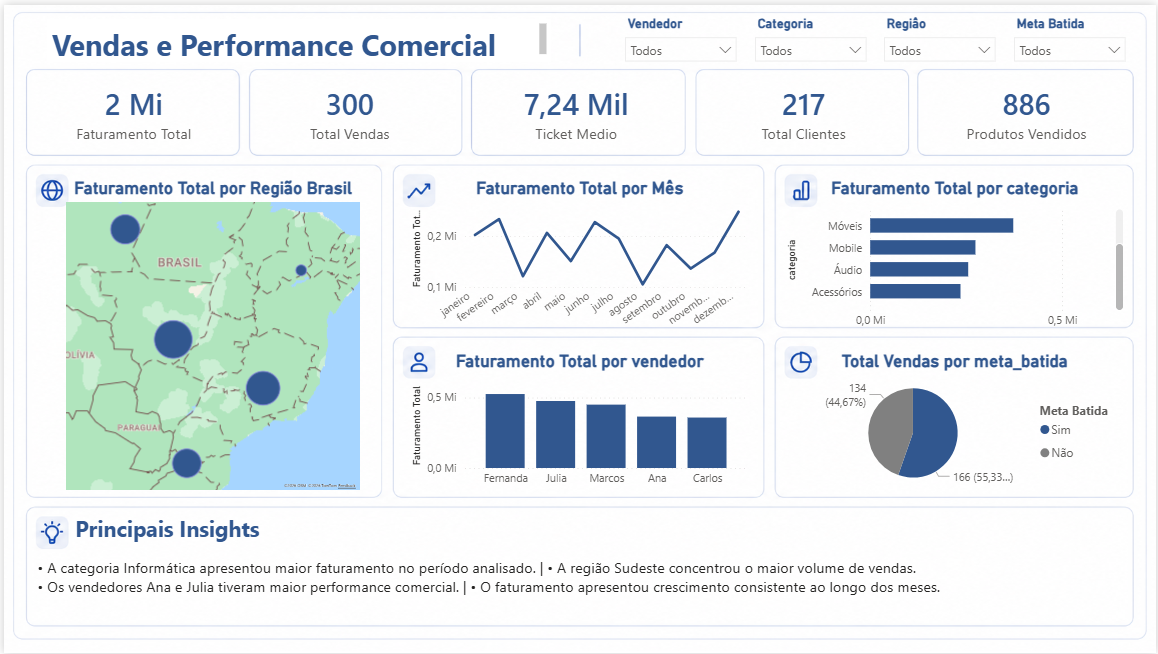

The dashboard page shown, as its layout file describes it:
{"tool":"powerbi","page":{"name":"Página 1","canvas":[1280,720],"ordinal":0},"visuals":[{"type":"cardVisual","fields":{"Data":["base_vendas.Faturamento Total"]},"box":[32,72,224,96],"z":0},{"type":"cardVisual","fields":{"Data":["base_vendas.Total Vendas"]},"box":[272,72,224,96],"z":1000},{"type":"cardVisual","fields":{"Data":["base_vendas.Ticket Medio"]},"box":[528,72,216,96],"z":2000},{"type":"cardVisual","fields":{"Data":["base_vendas.Total Clientes"]},"box":[784,72,208,96],"z":3000},{"type":"cardVisual","fields":{"Data":["base_vendas.Produtos Vendidos"]},"box":[1032,72,208,96],"z":4000},{"type":"lineChart","fields":{"Category":["base_vendas.data_venda.Variation.Hierarquia de datas.Mês"],"Y":["base_vendas.Faturamento Total"]},"box":[448,192,384,176],"z":5000},{"type":"barChart","fields":{"Category":["base_vendas.categoria"],"Y":["base_vendas.Faturamento Total"]},"box":[864,192,384,176],"z":6000},{"type":"columnChart","fields":{"Category":["base_vendas.vendedor"],"Y":["base_vendas.Faturamento Total"]},"box":[448,384,384,160],"z":7000},{"type":"azureMap","title":"Faturamento Total por Região Brasil","fields":{"Category":["base_vendas.Regiao Brasil"],"Size":["base_vendas.Faturamento Total"]},"box":[64,192,336,352],"z":8000},{"type":"pieChart","fields":{"Category":["base_vendas.meta_batida"],"Y":["base_vendas.Total Vendas"]},"box":[864,384,384,160],"z":9000},{"type":"slicer","fields":{"Values":["base_vendas.vendedor"]},"box":[680,8,144,64],"z":10000},{"type":"slicer","fields":{"Values":["base_vendas.categoria"]},"box":[824,8,144,64],"z":11000},{"type":"slicer","fields":{"Values":["base_vendas.regiao"]},"box":[968,8,144,64],"z":12000},{"type":"slicer","fields":{"Values":["base_vendas.meta_batida"]},"box":[1112,8,144,64],"z":13000},{"type":"textbox","box":[32,560,1216,128],"z":14000},{"type":"textbox","box":[48,16,560,48],"z":15000}]}

Visuals, with their boxes in screenshot pixels (x1, y1, x2, y2), scaled from the page's 1280x720 canvas onto the 1158x654 screenshot:
cardVisual - base_vendas.Faturamento Total: left=29, top=65, right=232, bottom=153
cardVisual - base_vendas.Total Vendas: left=246, top=65, right=449, bottom=153
cardVisual - base_vendas.Ticket Medio: left=478, top=65, right=673, bottom=153
cardVisual - base_vendas.Total Clientes: left=709, top=65, right=897, bottom=153
cardVisual - base_vendas.Produtos Vendidos: left=934, top=65, right=1122, bottom=153
lineChart - base_vendas.data_venda.Variation.Hierarquia de datas.Mês x base_vendas.Faturamento Total: left=405, top=174, right=753, bottom=334
barChart - base_vendas.categoria x base_vendas.Faturamento Total: left=782, top=174, right=1129, bottom=334
columnChart - base_vendas.vendedor x base_vendas.Faturamento Total: left=405, top=349, right=753, bottom=494
"Faturamento Total por Região Brasil" azureMap: left=58, top=174, right=362, bottom=494
pieChart - base_vendas.meta_batida x base_vendas.Total Vendas: left=782, top=349, right=1129, bottom=494
slicer - base_vendas.vendedor: left=615, top=7, right=745, bottom=65
slicer - base_vendas.categoria: left=745, top=7, right=876, bottom=65
slicer - base_vendas.regiao: left=876, top=7, right=1006, bottom=65
slicer - base_vendas.meta_batida: left=1006, top=7, right=1136, bottom=65
textbox: left=29, top=509, right=1129, bottom=625
textbox: left=43, top=15, right=550, bottom=58
